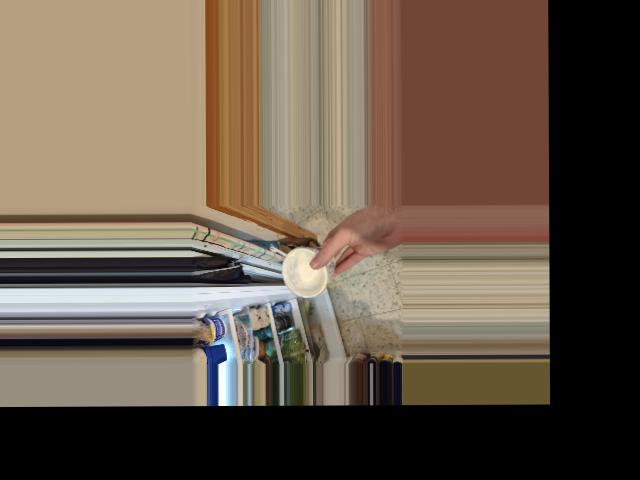cotage: (275, 245, 339, 296)
